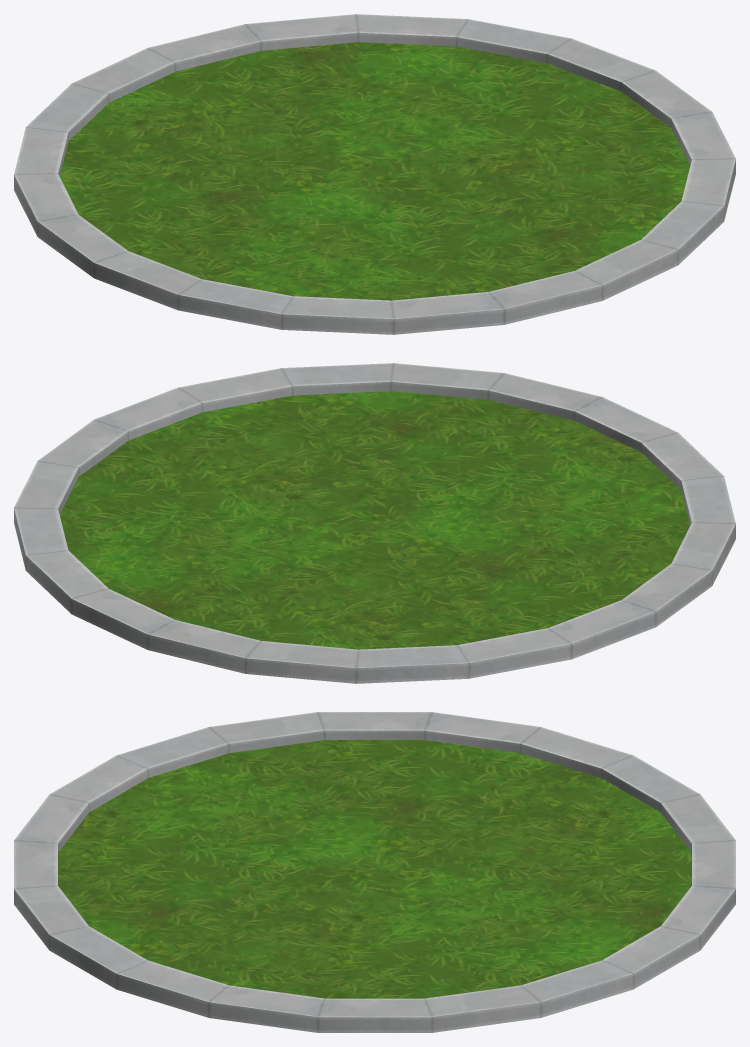
File: flowerBed_circular_02.fbx
3 views of the same model, one above another, from view 1: azimuth 30°, elevation 25°; view 2: azimuth 150°, elevation 25°; view 3: azimuth 270°, elevation 25° (orthographic).
Parts seen in each view (by area): view 1: flowerBed_circular_02; view 2: flowerBed_circular_02; view 3: flowerBed_circular_02.
Boxes of the visible parts, <box> form: flowerBed_circular_02: <box>14,14,735,334</box>; flowerBed_circular_02: <box>14,363,735,683</box>; flowerBed_circular_02: <box>14,712,735,1032</box>.
Size of the model in its own units: 306 by 7.39 by 306.
